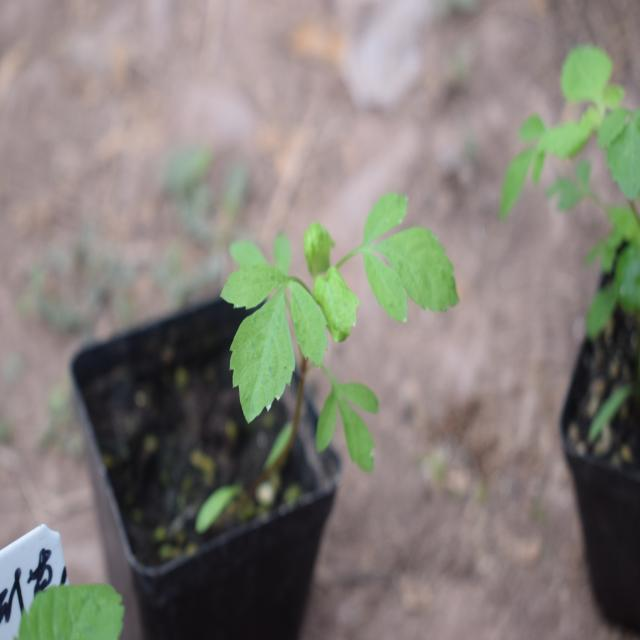Bidens pilosa: (222, 184, 473, 456)
